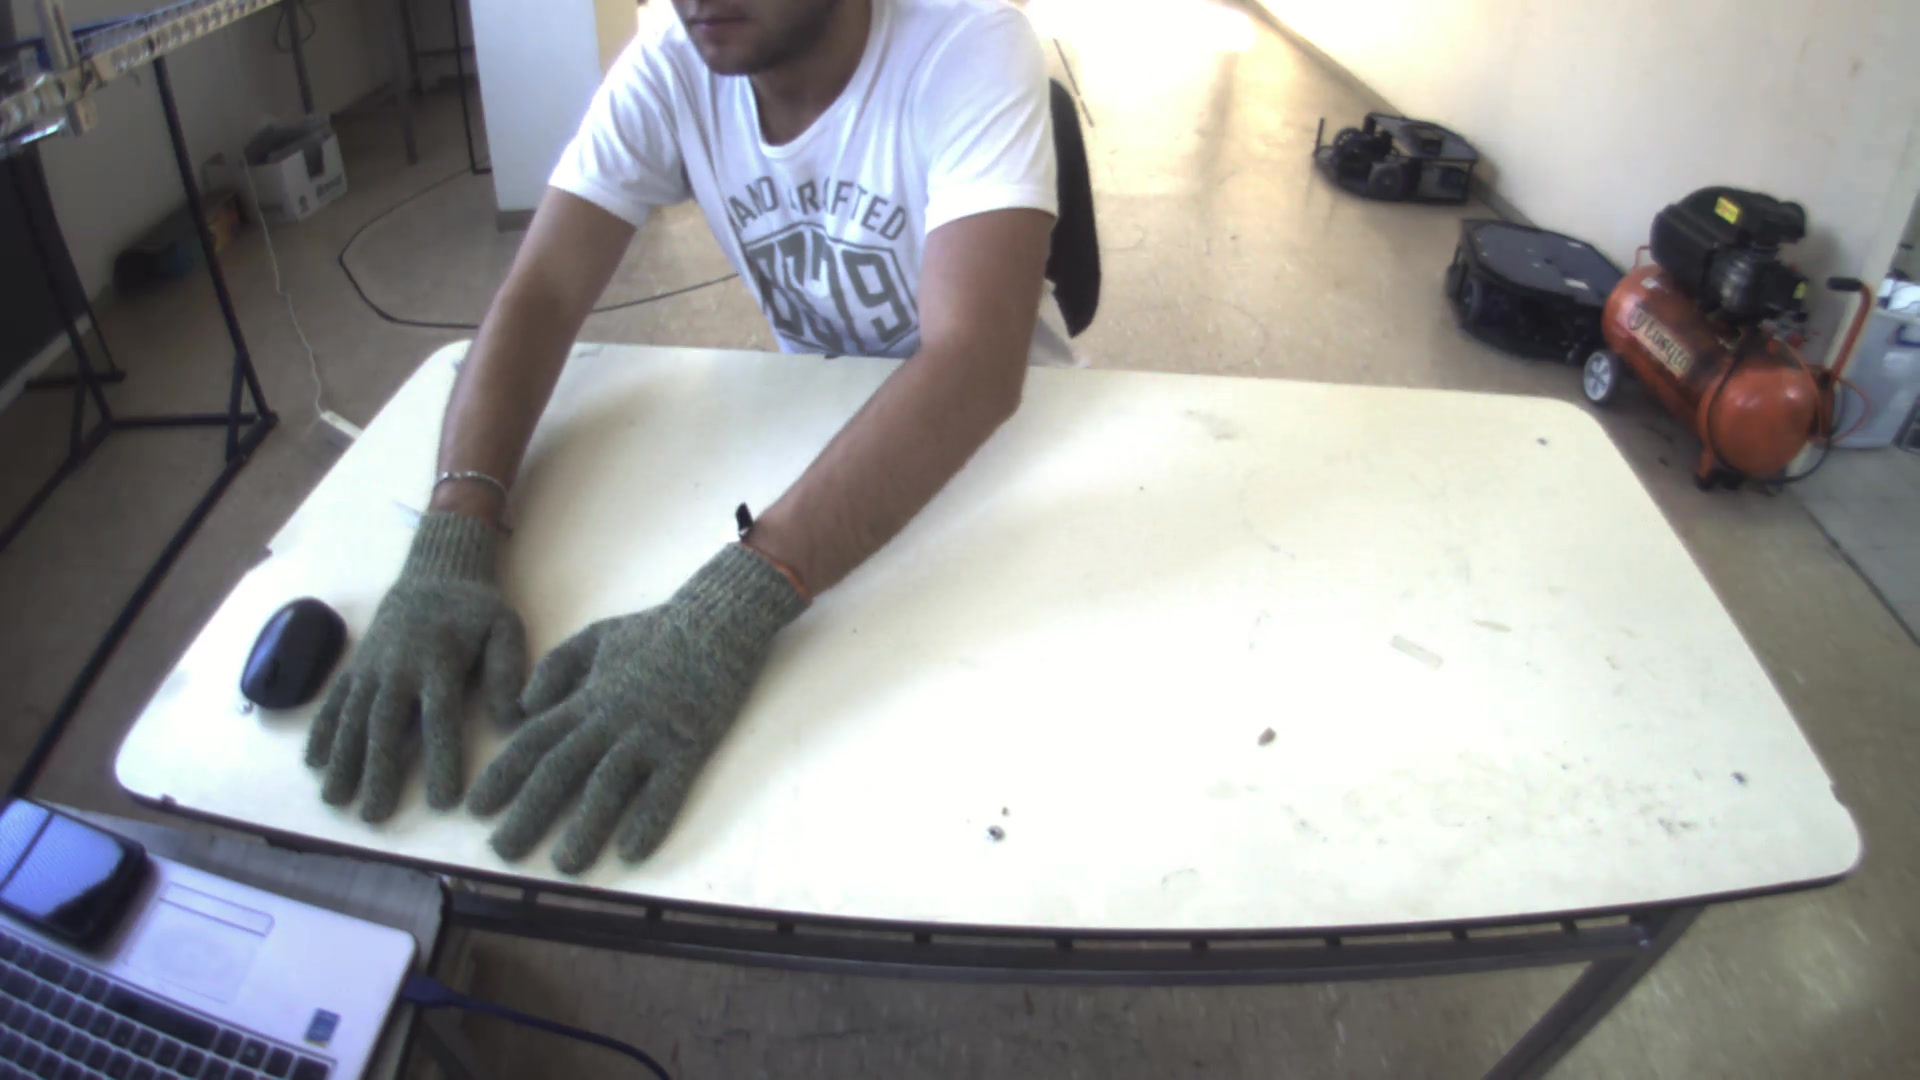hand: (443, 553, 804, 890), (291, 487, 524, 835)
